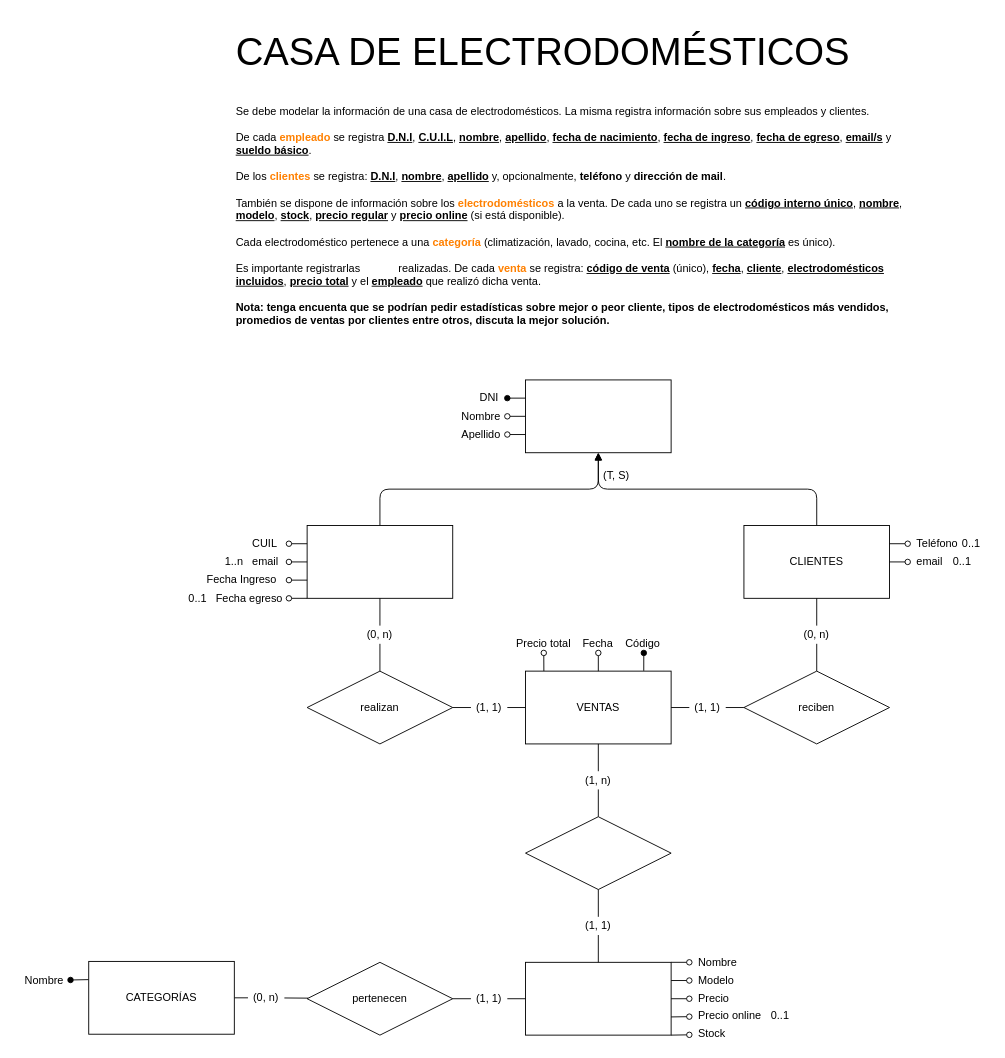
Some shapes in this 1005 by 1058 pixel diagram are drawn without their labels. The shapes that lost their labels are listed below. From the top down, each one's box as (x1, y1, x2, y2) in pixels, then its label:
(525, 379, 671, 453): PERSONAS
(306, 525, 453, 598): EMPLEADOS
(525, 816, 671, 890): incluyen
(525, 961, 671, 1035): ELECTRODOMÉSTICOS
